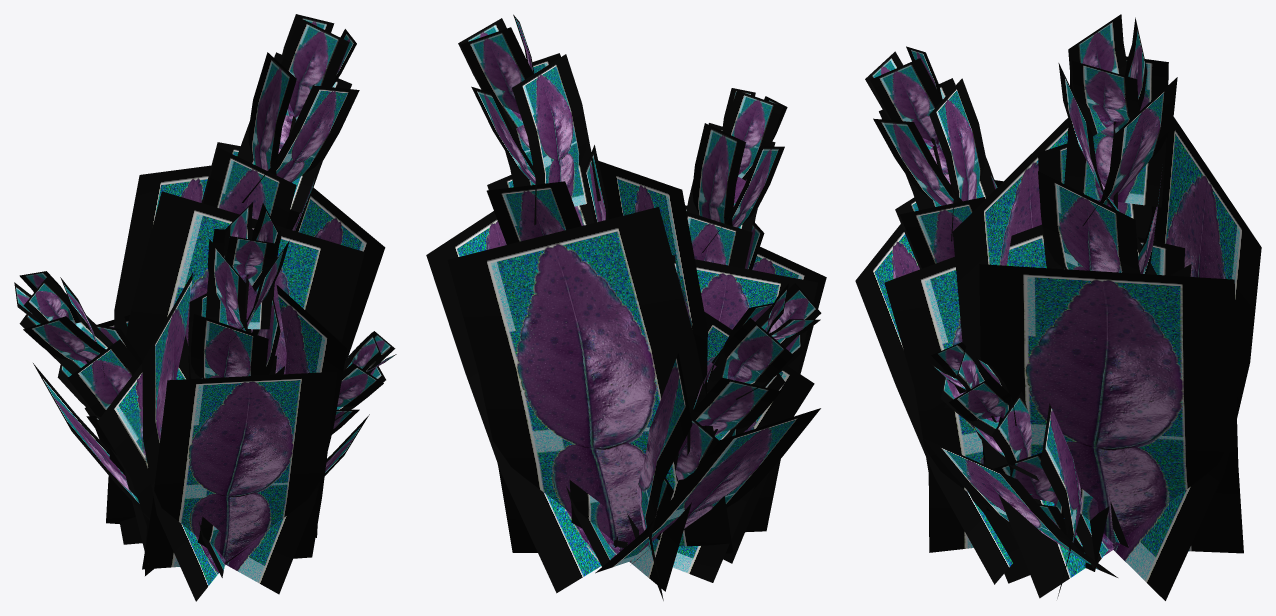
The model's file is violet3.FBX.
3 views of the same model, side by side, from view 1: azimuth 30°, elevation 25°; view 2: azimuth 150°, elevation 25°; view 3: azimuth 270°, elevation 25° (orthographic). The views are drawn at different scales.
Parts seen in each view (by area): view 1: plane; view 2: plane; view 3: plane.
Part boxes in pixels (x1,y1,x2,y2): plane: (14,14,396,601); plane: (426,14,826,600); plane: (855,14,1261,600).
Bounding box in the file's own units: 206 × 295 × 177.
